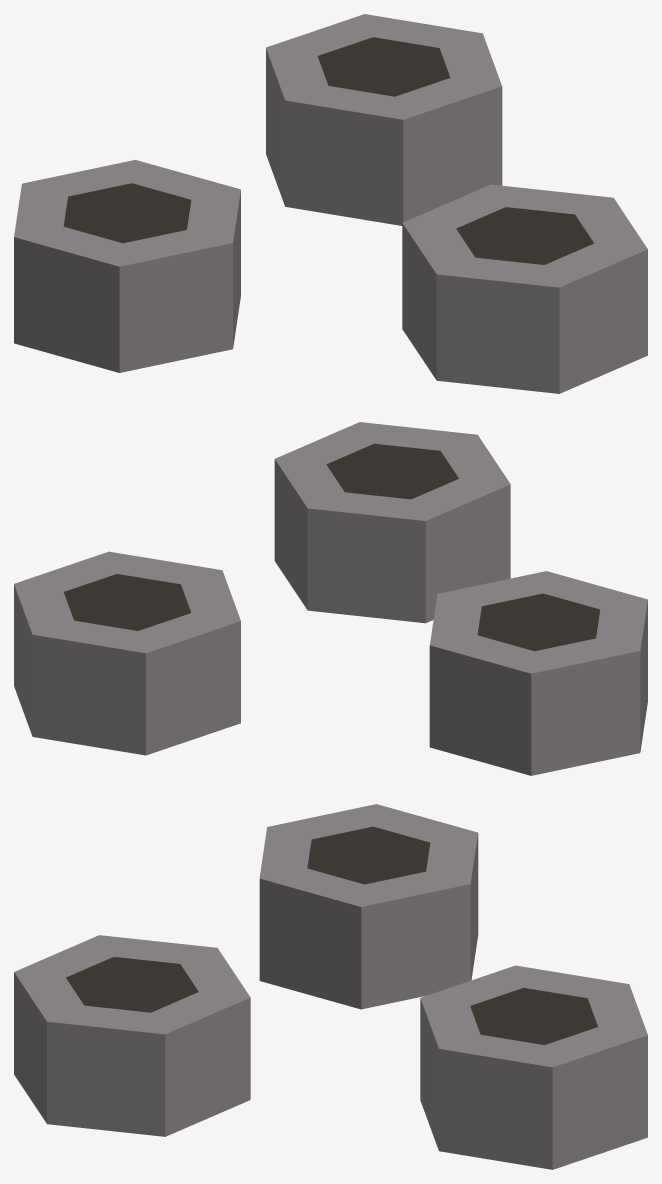
Rendered from Bolts.fbx.
The picture shows the model from 3 angles, top to bottom: view 1: azimuth 30°, elevation 25°; view 2: azimuth 150°, elevation 25°; view 3: azimuth 270°, elevation 25°; orthographic projection. The views are drawn at different scales.
Parts seen in each view (by area): view 1: Bolts; view 2: Bolts; view 3: Bolts.
Part boxes in pixels (box(x1,y1,x2,y2)): Bolts: box(14, 14, 647, 393); Bolts: box(14, 422, 647, 775); Bolts: box(14, 804, 647, 1169).
Bounding box in the file's own units: 13.19 × 2.39 × 13.42.
